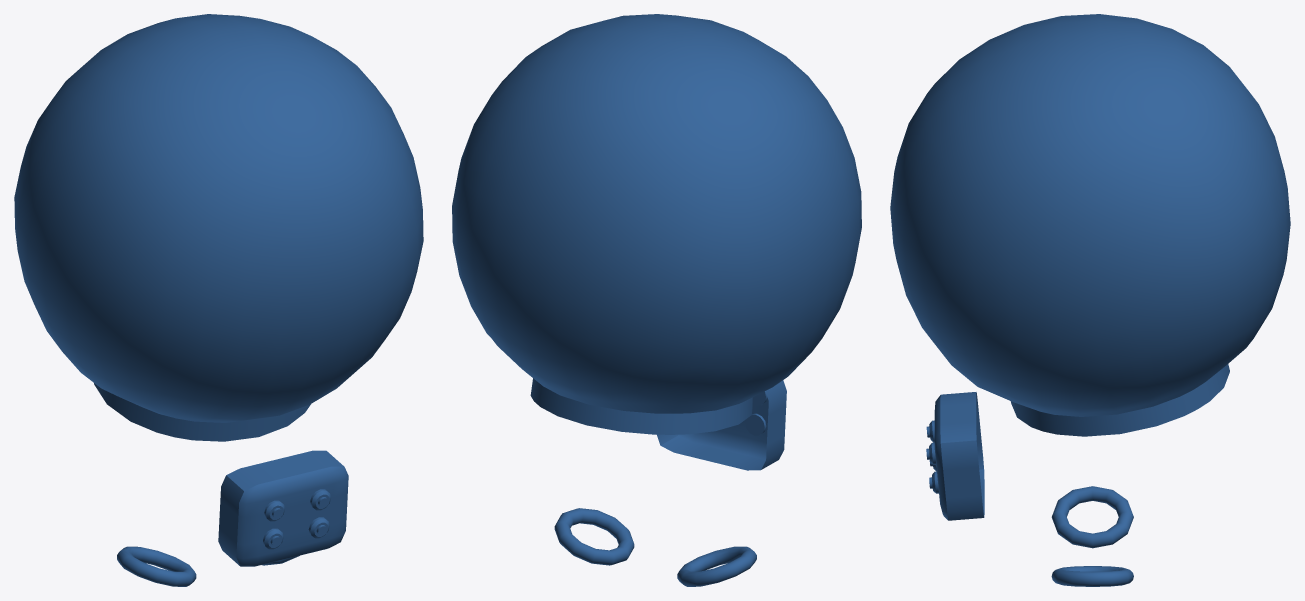
Rendered from ChickenProps01.fbx.
3 views of the same model, side by side, from view 1: azimuth 30°, elevation 25°; view 2: azimuth 150°, elevation 25°; view 3: azimuth 270°, elevation 25° (orthographic).
Parts seen in each view (by area): view 1: Helmat01, SpaceBox, SpacePants; view 2: Helmat01, SpaceBox, SpacePants; view 3: Helmat01, SpaceBox, SpacePants.
Part boxes in pixels (<box>): Helmat01: <box>14,14,423,441</box>; SpaceBox: <box>218,450,348,566</box>; SpacePants: <box>117,546,299,586</box>; Helmat01: <box>452,14,861,434</box>; SpaceBox: <box>657,380,786,470</box>; SpacePants: <box>554,508,756,586</box>; Helmat01: <box>890,14,1290,436</box>; SpaceBox: <box>926,392,984,520</box>; SpacePants: <box>1051,486,1133,586</box>.
Bounding box in the file's own units: 50.12 × 73.3 × 50.24.
